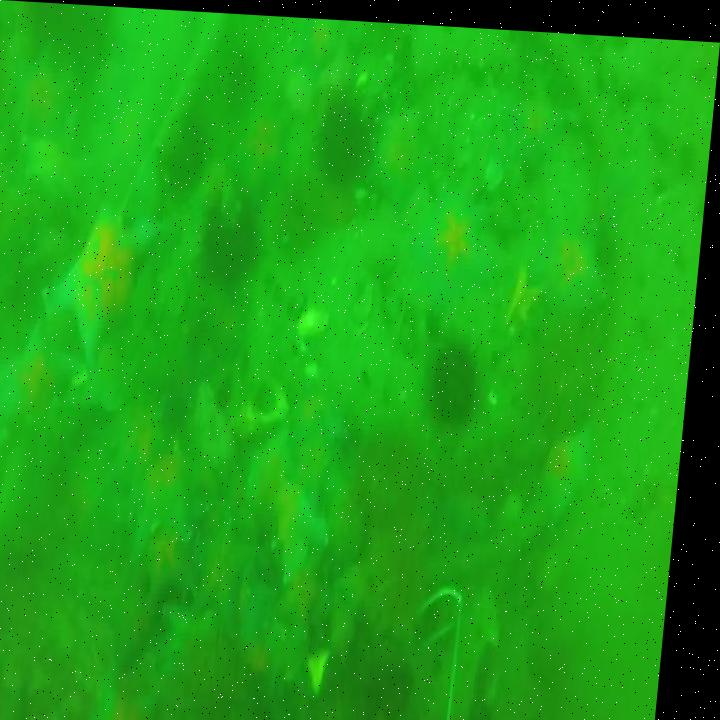echinus: (50, 192, 178, 370), (140, 423, 227, 551), (432, 165, 503, 292), (518, 203, 608, 299), (96, 383, 179, 485), (199, 520, 272, 635), (278, 452, 343, 581), (0, 330, 85, 419), (202, 186, 266, 281), (22, 10, 107, 80), (314, 88, 376, 176), (425, 343, 488, 422), (158, 104, 211, 191)
scallop: (251, 372, 298, 431)
